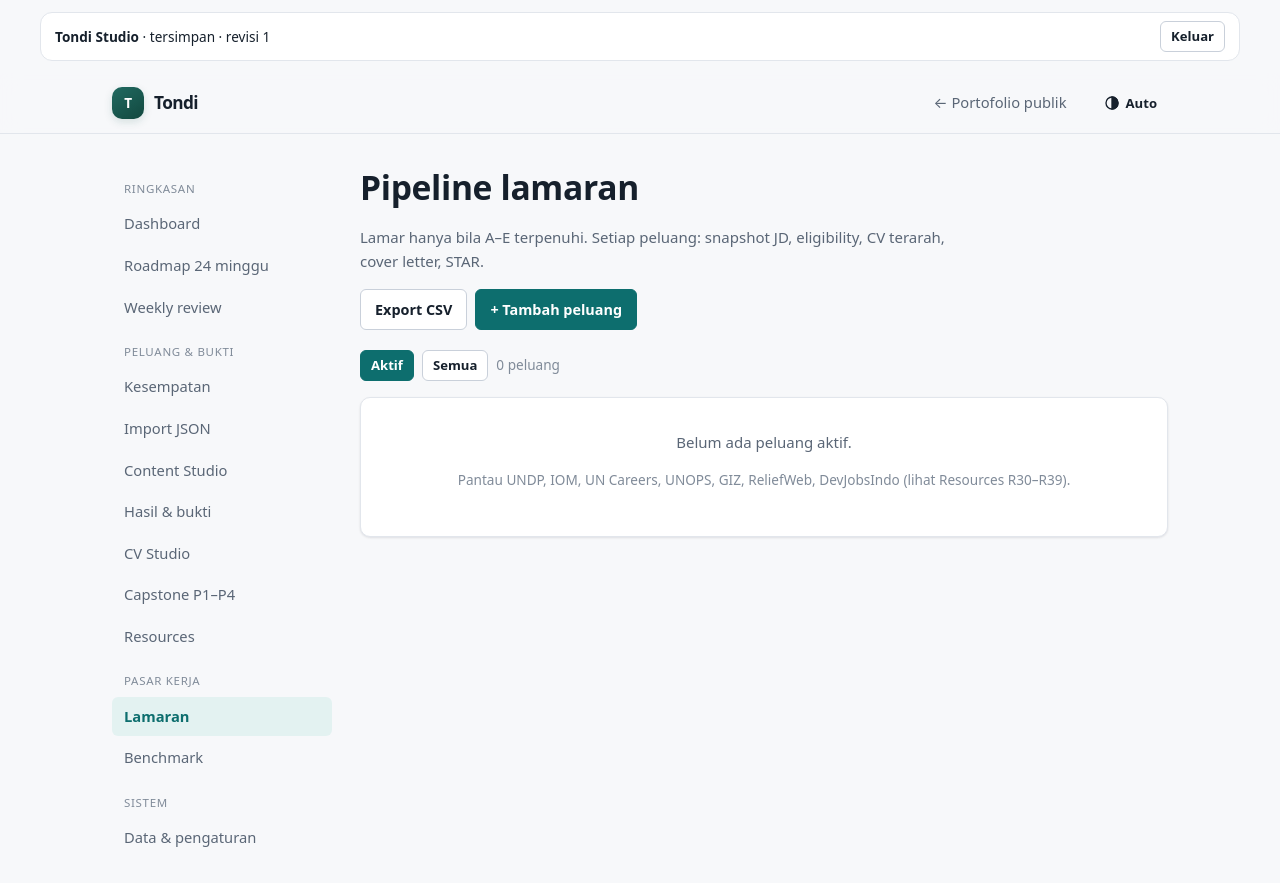
owner workspace › supports the original application go/no-go workflow
The width and height of the screenshot is (1280, 883).
Click the button "+ Tambah peluang" at (556, 309), box [475,289,637,330]
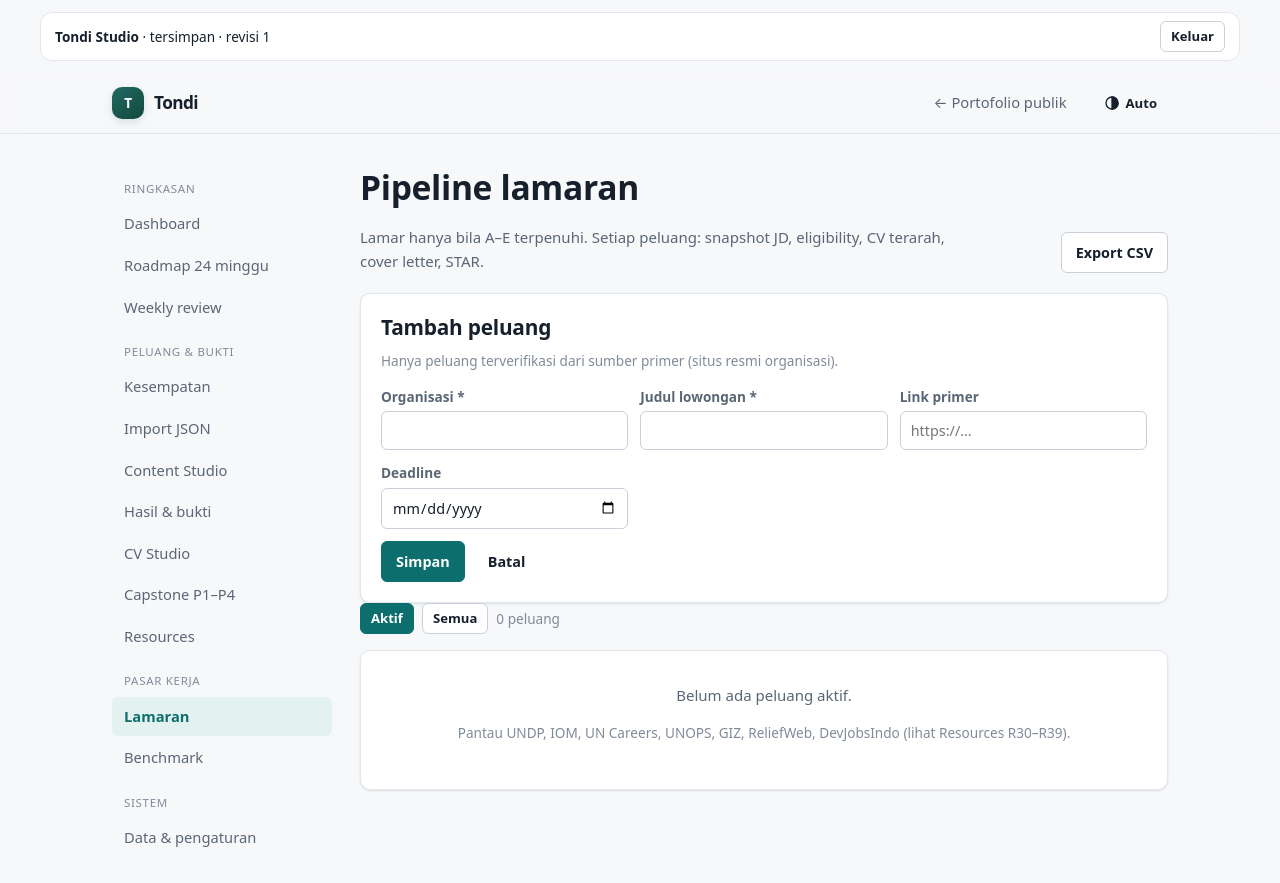
Type "GIZ" into the field labelled "Organisasi *" at (505, 431), box [381,411,628,450]
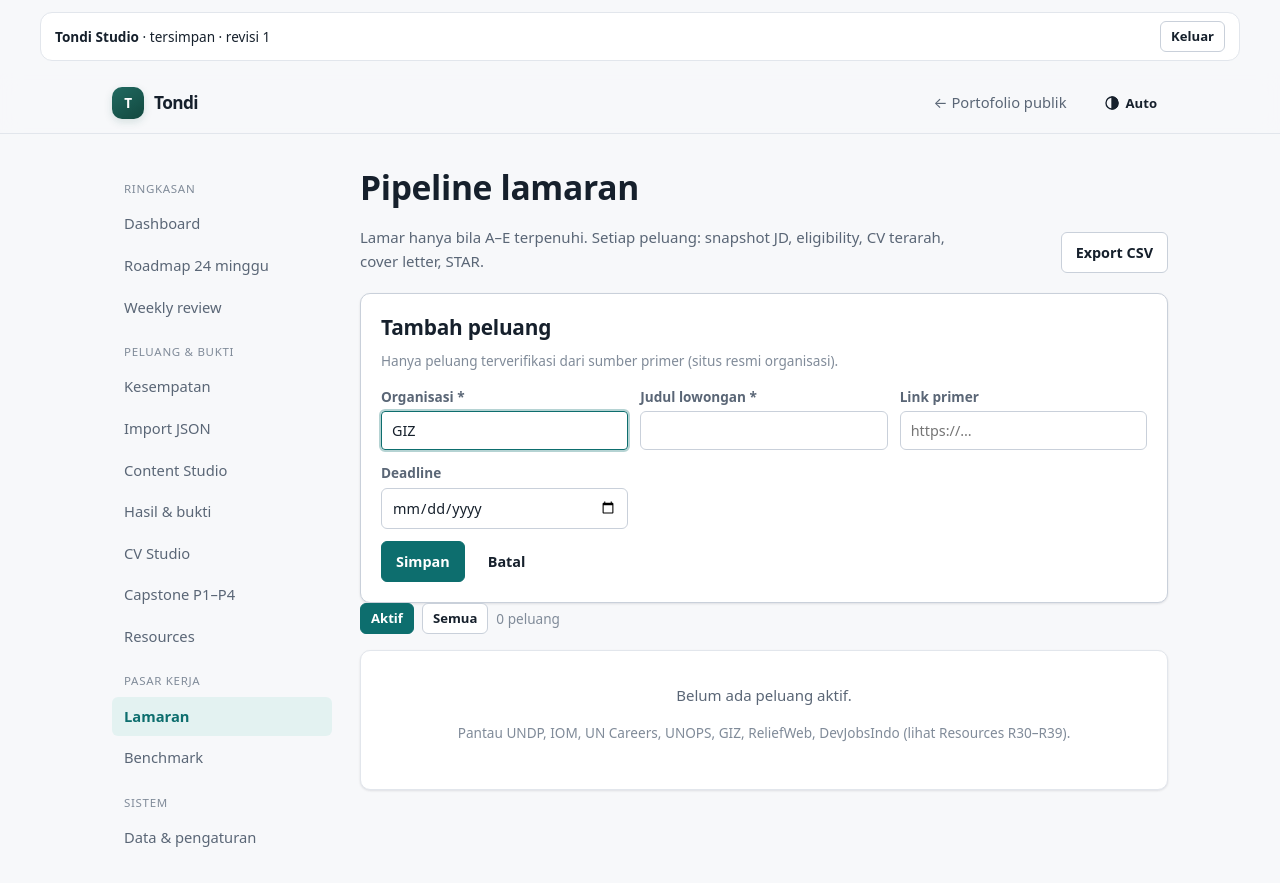
Type "Trainee Project Assistant" into the field labelled "Judul lowongan *" at (764, 431), box [640,411,888,450]
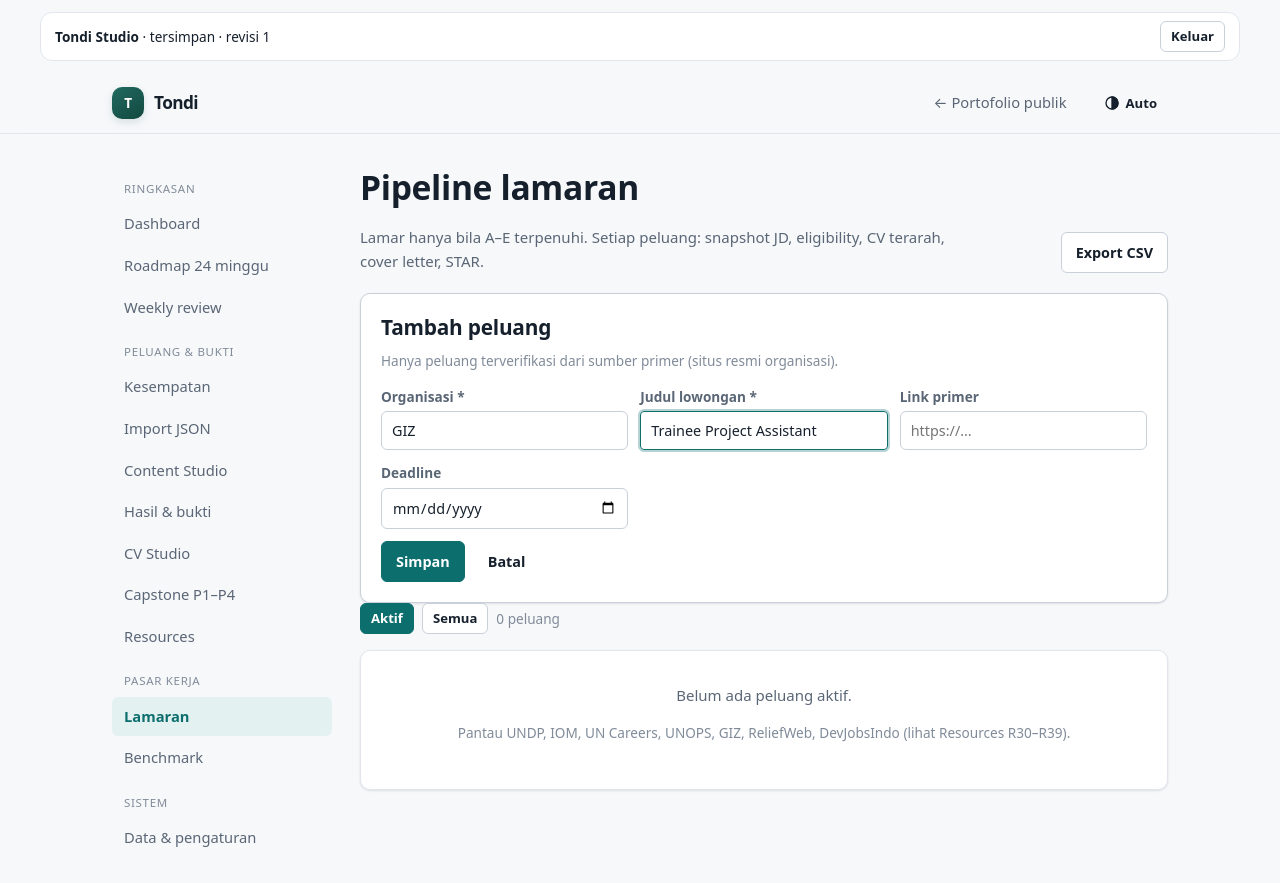
Click the button "Simpan" at (423, 562), box [381,541,465,582]
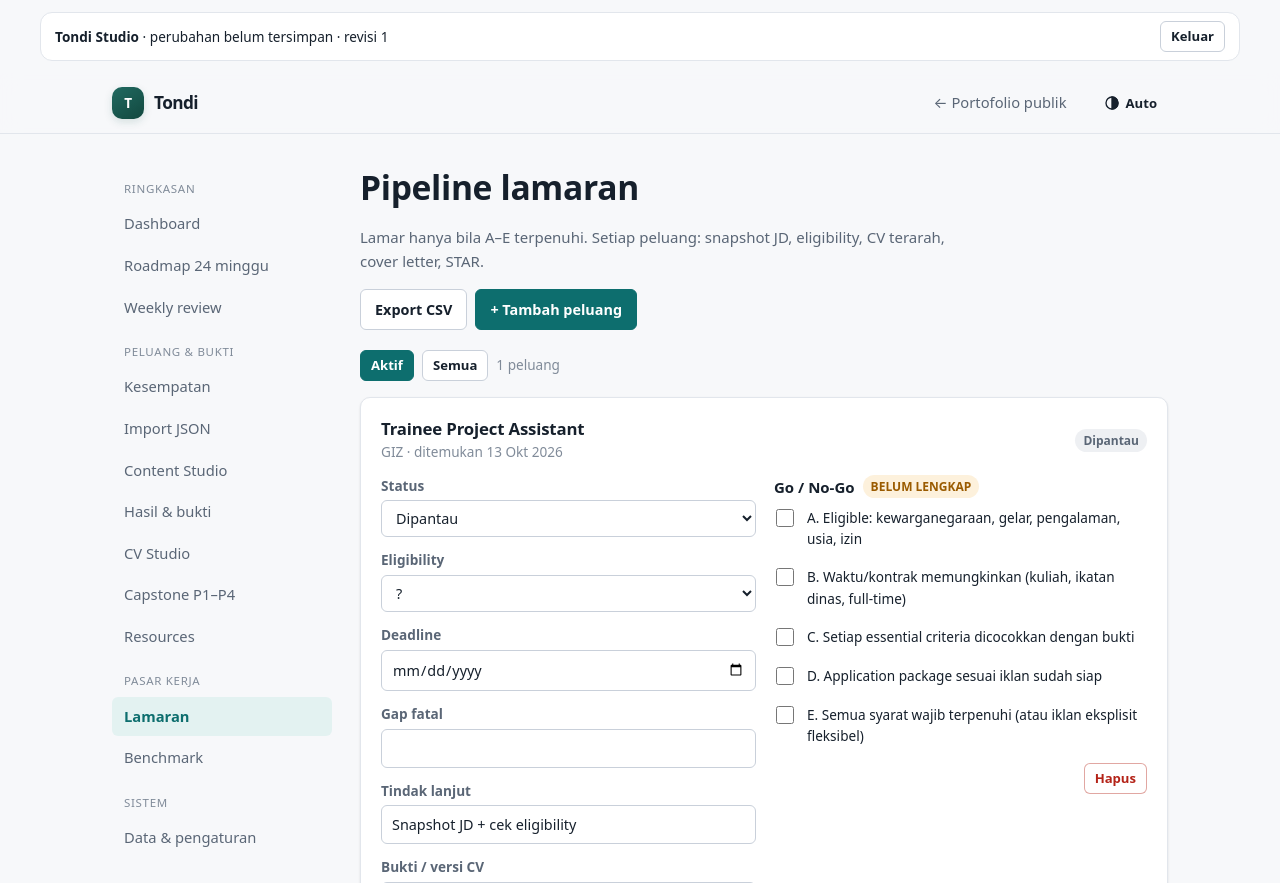
Check: the heading "Trainee Project Assistant" is shown, box [381,418,584,439]
